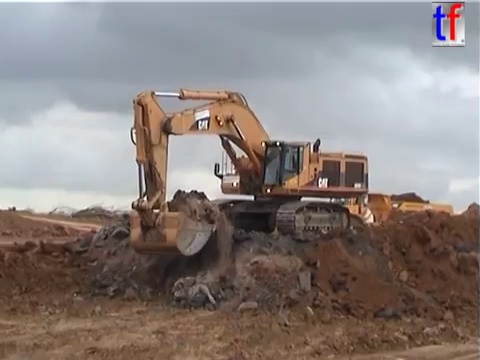excavator: (126, 84, 371, 258)
truck: (327, 188, 455, 240)
